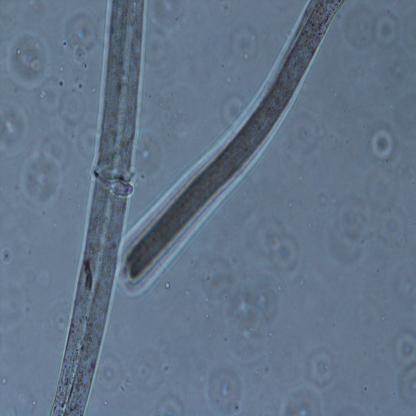Background material: (190, 252, 276, 352), (334, 166, 407, 266), (2, 22, 50, 92), (32, 73, 87, 125), (146, 0, 188, 66), (22, 148, 65, 210), (391, 318, 416, 416), (343, 6, 399, 48), (254, 222, 297, 272), (207, 362, 246, 415), (67, 14, 97, 70), (307, 340, 336, 390), (279, 385, 325, 416), (229, 20, 258, 64), (0, 101, 27, 148), (129, 353, 159, 392), (214, 92, 248, 126), (290, 116, 322, 152), (390, 260, 416, 304), (95, 354, 124, 390), (371, 124, 398, 162), (149, 397, 187, 416), (164, 280, 171, 289)
Microfibre: (126, 0, 346, 292), (49, 0, 146, 414)
